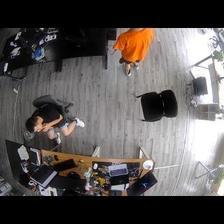normal: (25, 96, 87, 149), (112, 28, 154, 76)
